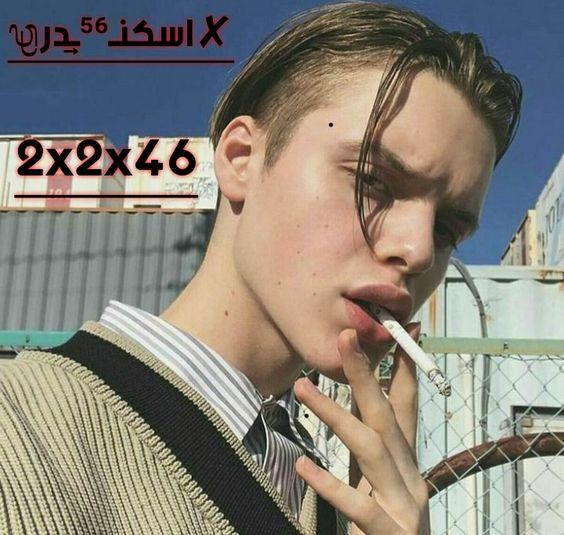cigarette: (369, 304, 451, 396)
